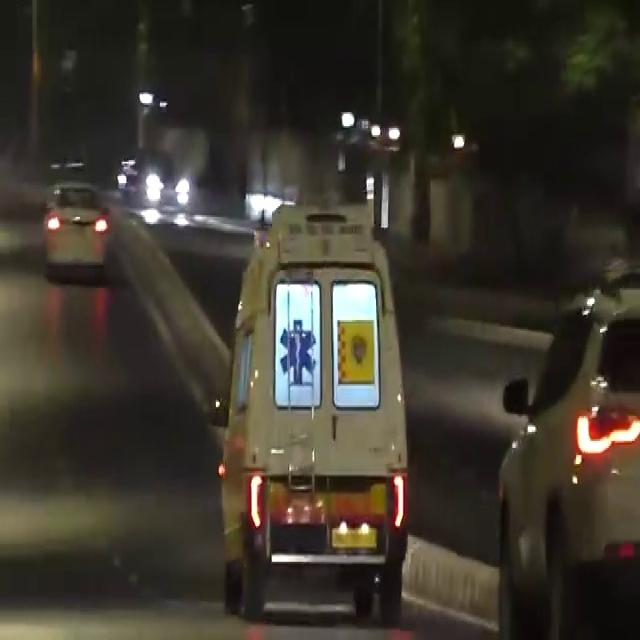ambulance: (197, 192, 419, 580)
